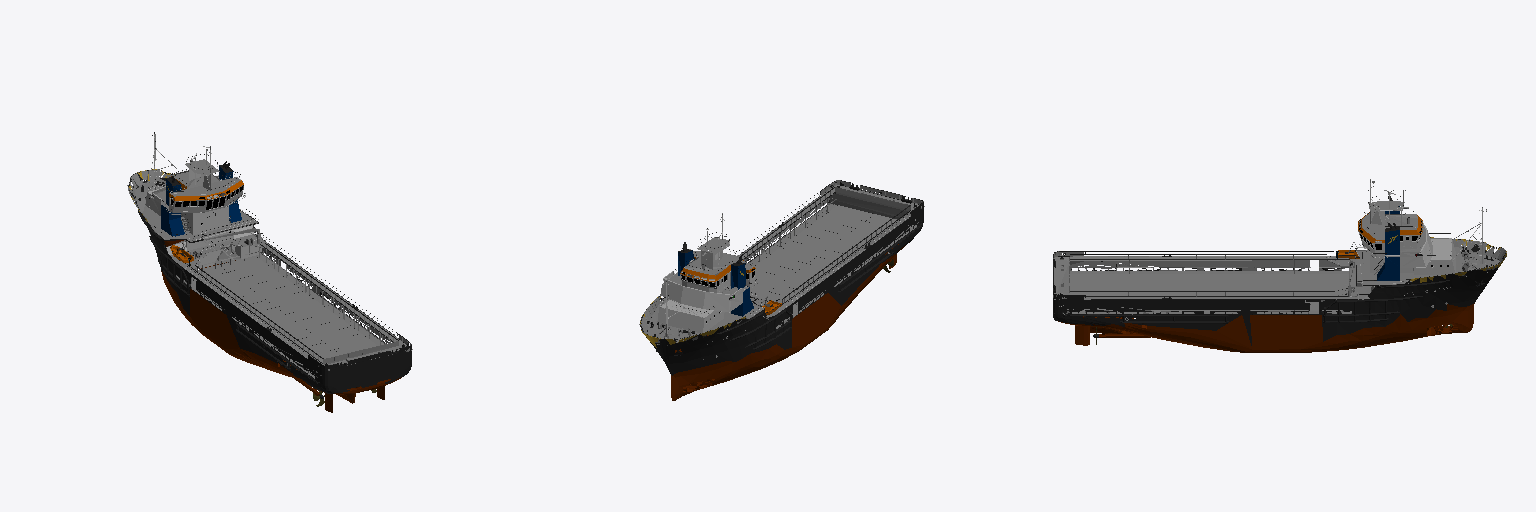
Rendered from Boat_Opti.obj.
3 views of the same model, side by side, from view 1: azimuth 30°, elevation 25°; view 2: azimuth 150°, elevation 25°; view 3: azimuth 270°, elevation 25° (orthographic).
Visible parts, largest first — view 1: sub01, sub03, sub02; view 2: sub01, sub03, sub02; view 3: sub01, sub03, sub02.
Part boxes in pixels (x1,y1,x2,y2): sub01: (127,132,411,412); sub03: (129,149,412,382); sub02: (128,134,408,404); sub01: (639,180,923,400); sub03: (640,181,924,391); sub02: (642,183,921,355); sub01: (1053,187,1506,352); sub03: (1053,190,1506,334); sub02: (1053,179,1500,343).
Bounding box in the file's own units: 1.7 × 2.68 × 7.16.